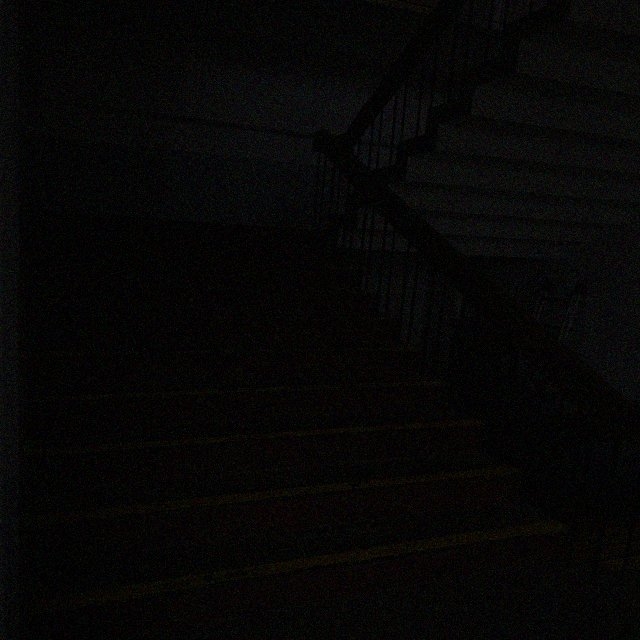stair: (27, 212, 567, 639), (377, 0, 639, 258)
